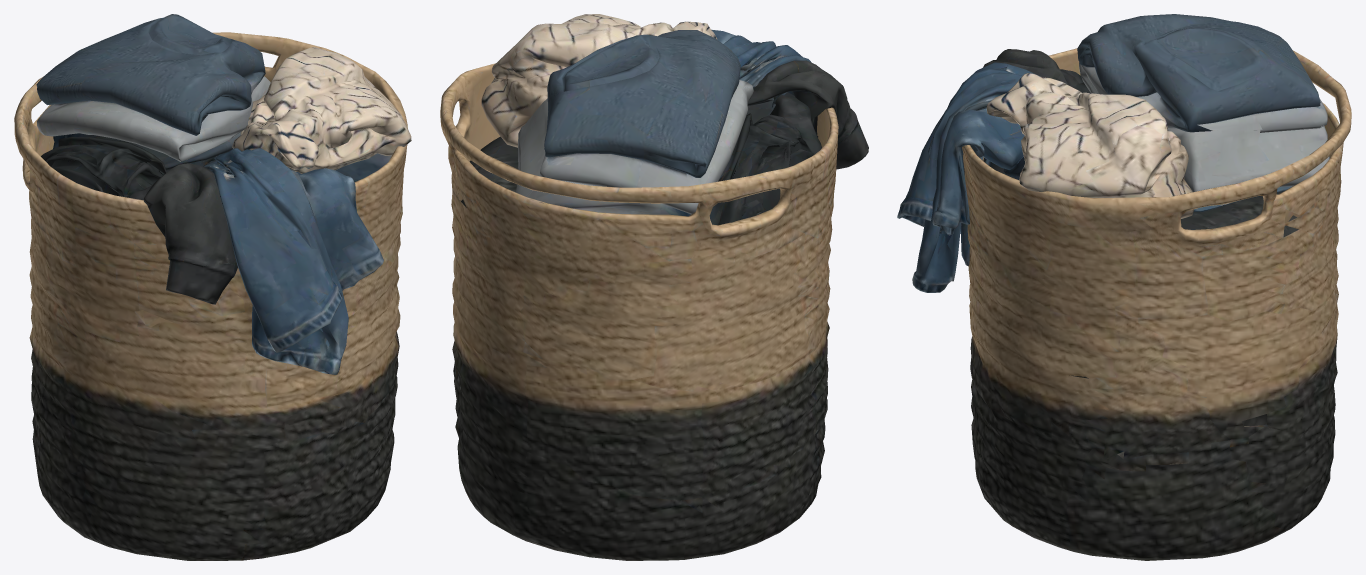
The model's file is mobile.glb.
3 views of the same model, side by side, from view 1: azimuth 30°, elevation 25°; view 2: azimuth 150°, elevation 25°; view 3: azimuth 270°, elevation 25° (orthographic).
Visible parts, largest first — view 1: laundrybasket; view 2: laundrybasket; view 3: laundrybasket.
Part boxes in pixels (left/top/right/bottom): laundrybasket: left=14, top=14, right=411, bottom=560; laundrybasket: left=440, top=14, right=868, bottom=560; laundrybasket: left=897, top=14, right=1351, bottom=560.
Size of the model in its own units: 0.4404 by 0.5499 by 0.4987.
1 material, 1 textured.
